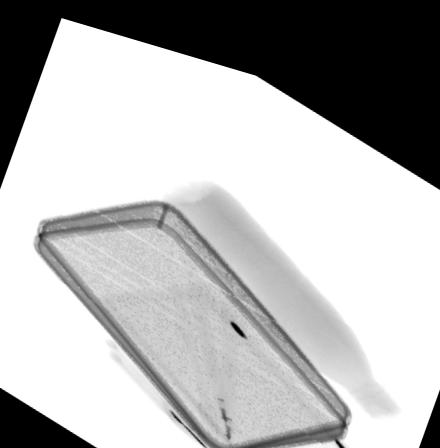Scissors: (105, 336, 220, 448)
